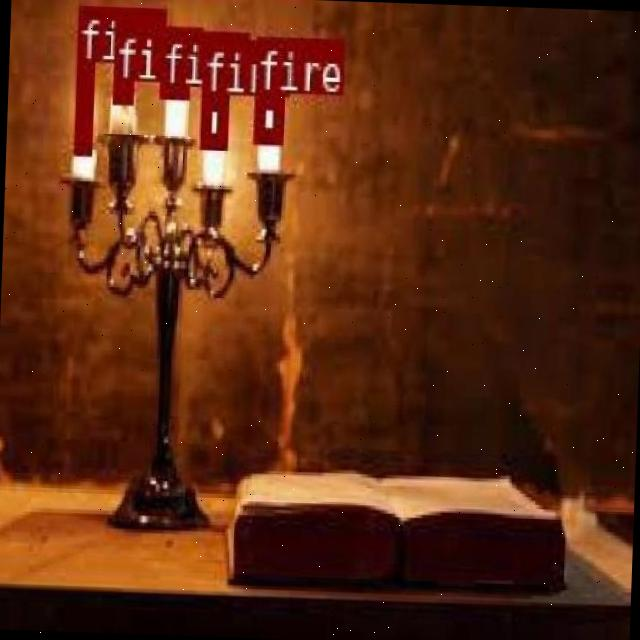fire: (158, 27, 189, 96), (74, 60, 93, 152), (112, 22, 134, 100), (199, 90, 227, 144), (252, 91, 282, 140)
